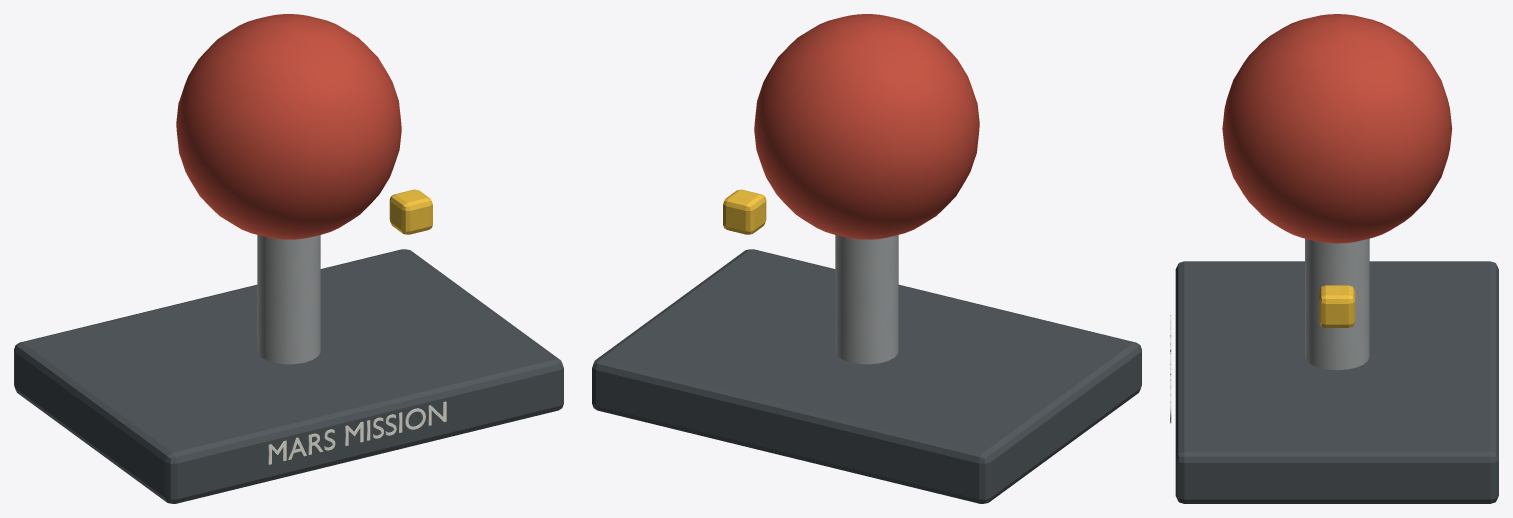
The model's file is mission_target_display.glb.
3 views of the same model, side by side, from view 1: azimuth 30°, elevation 25°; view 2: azimuth 150°, elevation 25°; view 3: azimuth 270°, elevation 25° (orthographic).
Parts seen in each view (by area): view 1: DisplayBase.001, TargetPlanet, Pedestal.001, LABEL_MARS_MISSION, RouteMarker; view 2: DisplayBase.001, TargetPlanet, Pedestal.001, RouteMarker; view 3: DisplayBase.001, TargetPlanet, Pedestal.001, RouteMarker.
Boxes of the visible parts, left/top/right/bottom form: DisplayBase.001: left=14, top=249, right=563, bottom=503; TargetPlanet: left=176, top=14, right=401, bottom=239; Pedestal.001: left=257, top=235, right=320, bottom=364; LABEL_MARS_MISSION: left=268, top=401, right=446, bottom=464; RouteMarker: left=389, top=189, right=432, bottom=234; DisplayBase.001: left=592, top=249, right=1141, bottom=503; TargetPlanet: left=754, top=14, right=979, bottom=239; Pedestal.001: left=835, top=235, right=898, bottom=364; RouteMarker: left=723, top=189, right=766, bottom=234; DisplayBase.001: left=1175, top=261, right=1498, bottom=503; TargetPlanet: left=1222, top=14, right=1452, bottom=243; Pedestal.001: left=1305, top=238, right=1369, bottom=370; RouteMarker: left=1319, top=285, right=1355, bottom=327.
Size of the model in its own units: 0.65 by 0.59 by 0.4578.
Materials: 5 (3 with a texture image).
